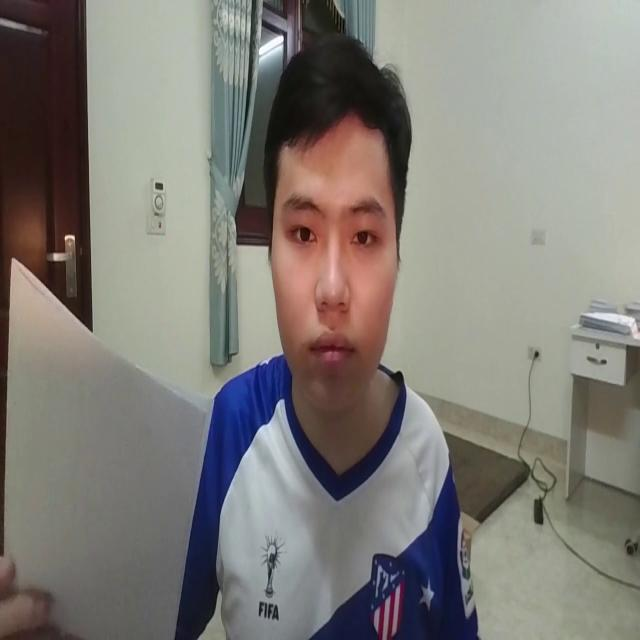book: (6, 239, 212, 640)
student: (142, 18, 486, 640)
